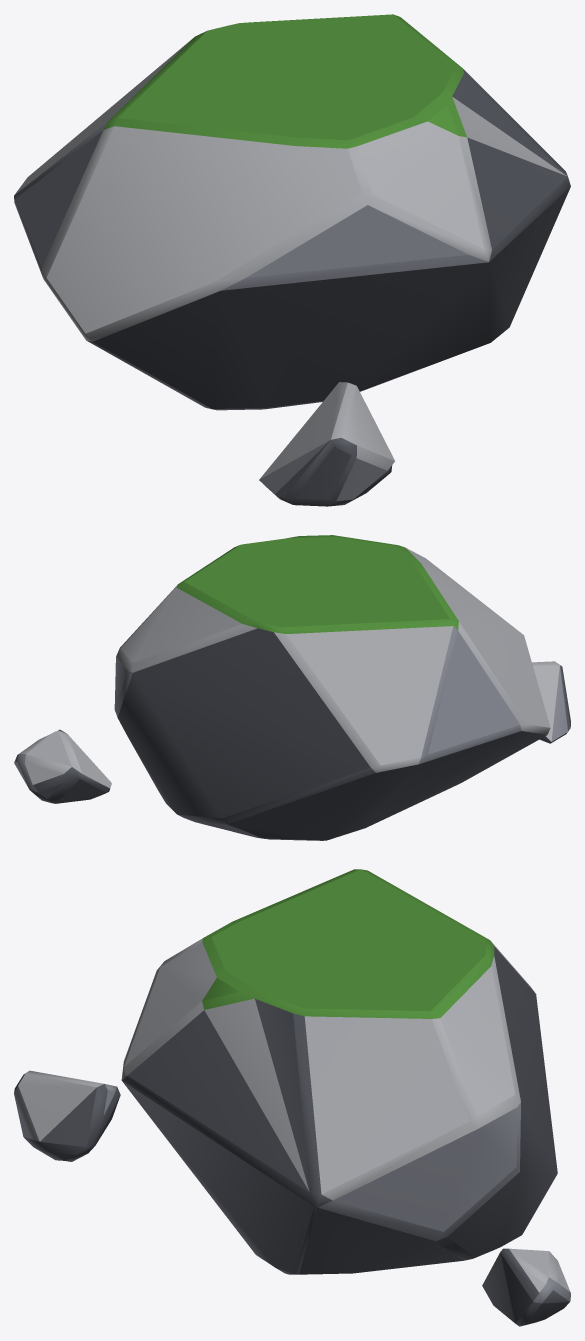
Rendered from Boulder_19.glb.
3 views of the same model, one above another, from view 1: azimuth 30°, elevation 25°; view 2: azimuth 150°, elevation 25°; view 3: azimuth 270°, elevation 25° (orthographic). The views are drawn at different scales.
Parts seen in each view (by area): view 1: Boulder_19; view 2: Boulder_19; view 3: Boulder_19.
Boxes of the visible parts, x1,y1,x2,y2 form: Boulder_19: (14, 14, 570, 506); Boulder_19: (14, 535, 570, 840); Boulder_19: (14, 869, 570, 1326).
Size of the model in its own units: 6.05 by 2.75 by 5.57.
